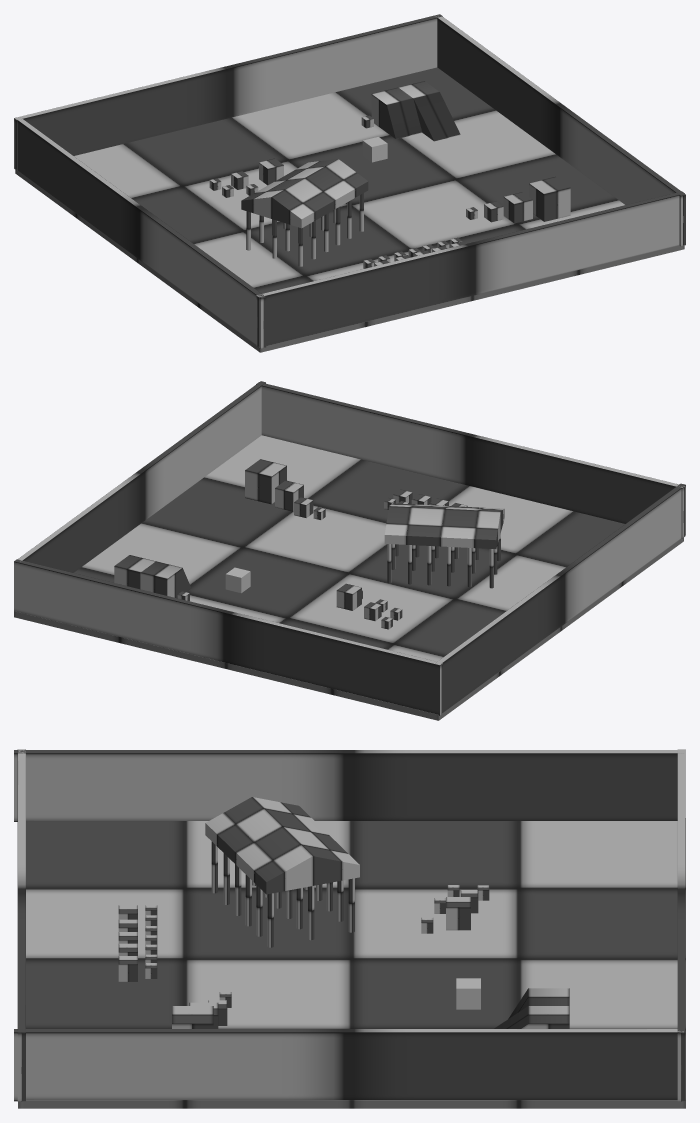
File: Level_CM.fbx
The picture shows the model from 3 angles, top to bottom: view 1: azimuth 30°, elevation 25°; view 2: azimuth 150°, elevation 25°; view 3: azimuth 270°, elevation 25°; orthographic projection. The views are drawn at different scales.
Visible parts, largest first — view 1: polySurface124, polySurface118, polySurface122, polySurface119, polySurface121, polySurface120, pCube11; view 2: polySurface124, polySurface118, polySurface119, polySurface122, polySurface121, polySurface120, pCube11; view 3: polySurface124, polySurface118, polySurface120, polySurface122, polySurface121, polySurface119, pCube11.
Part boxes in pixels (x1,y1,x2,y2): polySurface124: [14, 14, 685, 352]; polySurface118: [241, 159, 368, 266]; polySurface122: [361, 81, 460, 141]; polySurface119: [466, 176, 570, 223]; polySurface121: [209, 158, 283, 197]; polySurface120: [363, 237, 465, 268]; pCube11: [362, 137, 387, 162]; polySurface124: [14, 381, 685, 720]; polySurface118: [384, 503, 504, 588]; polySurface119: [245, 459, 325, 519]; polySurface122: [114, 555, 191, 601]; polySurface121: [336, 583, 402, 629]; polySurface120: [384, 489, 467, 509]; pCube11: [225, 567, 250, 593]; polySurface124: [14, 749, 685, 1108]; polySurface118: [205, 797, 359, 947]; polySurface120: [118, 905, 157, 981]; polySurface122: [494, 988, 569, 1028]; polySurface121: [421, 885, 489, 933]; polySurface119: [172, 992, 231, 1028]; pCube11: [456, 978, 480, 1009].
Size of the model in its own units: 10158 by 1573 by 10184.
